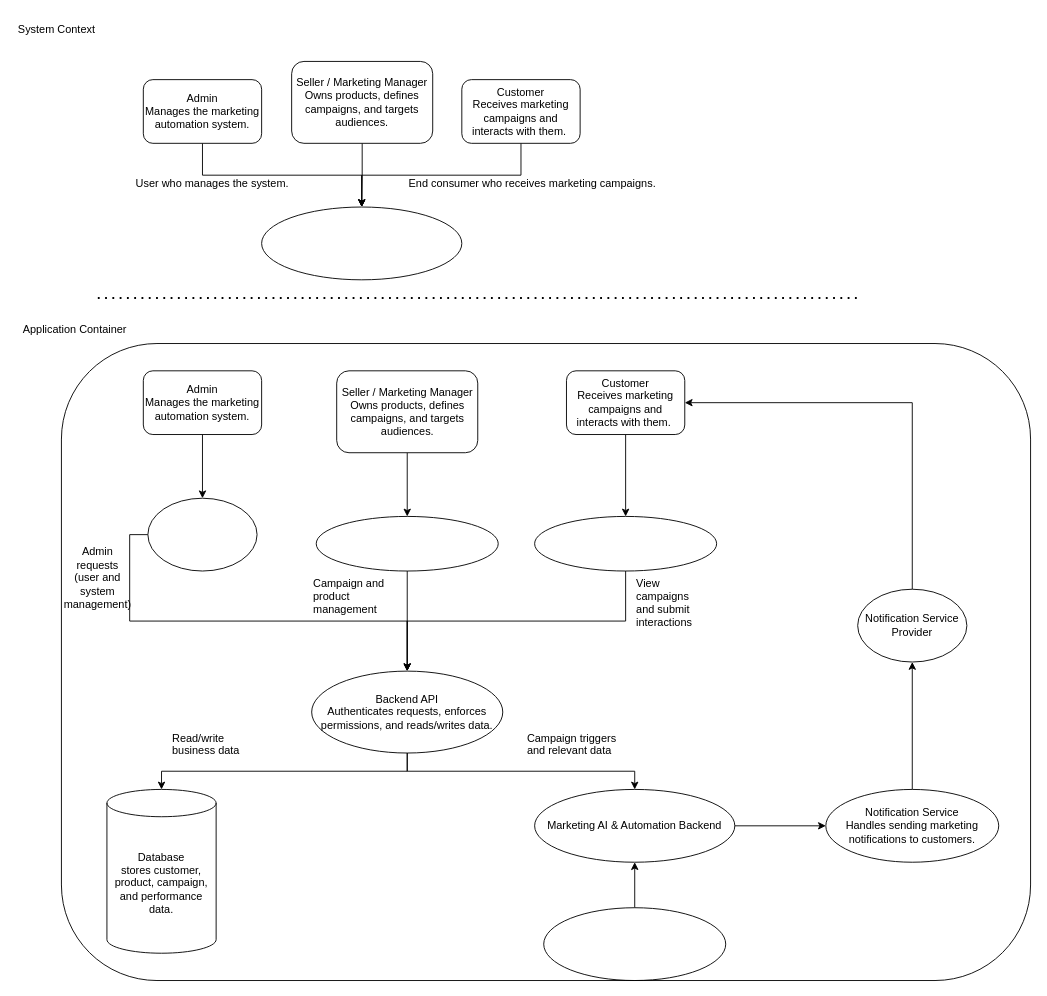
Image size: 1047x996. Some labels were removed from this diagram. Here are the shapes that lost their labels. From the top down, the centre of each, then its label:
At point (361, 243): "Marketing Application".
At point (202, 534): "Web Application - Admin".
At point (406, 543): "Web/Mobile Application - Sellers".
At point (625, 543): "Web/Mobile Application - Users".
At point (634, 944): "LLM Provider An external system that the Marketing AI uses for AI capabilities.".
